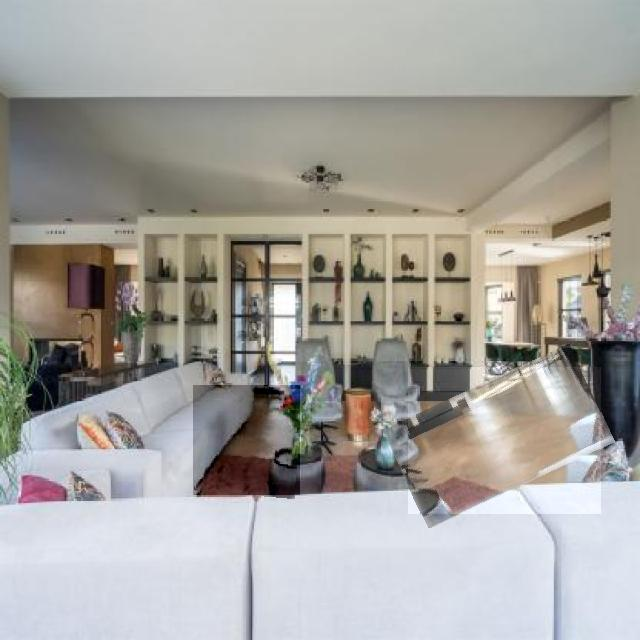floor: (409, 367, 601, 514), (194, 385, 300, 495)
